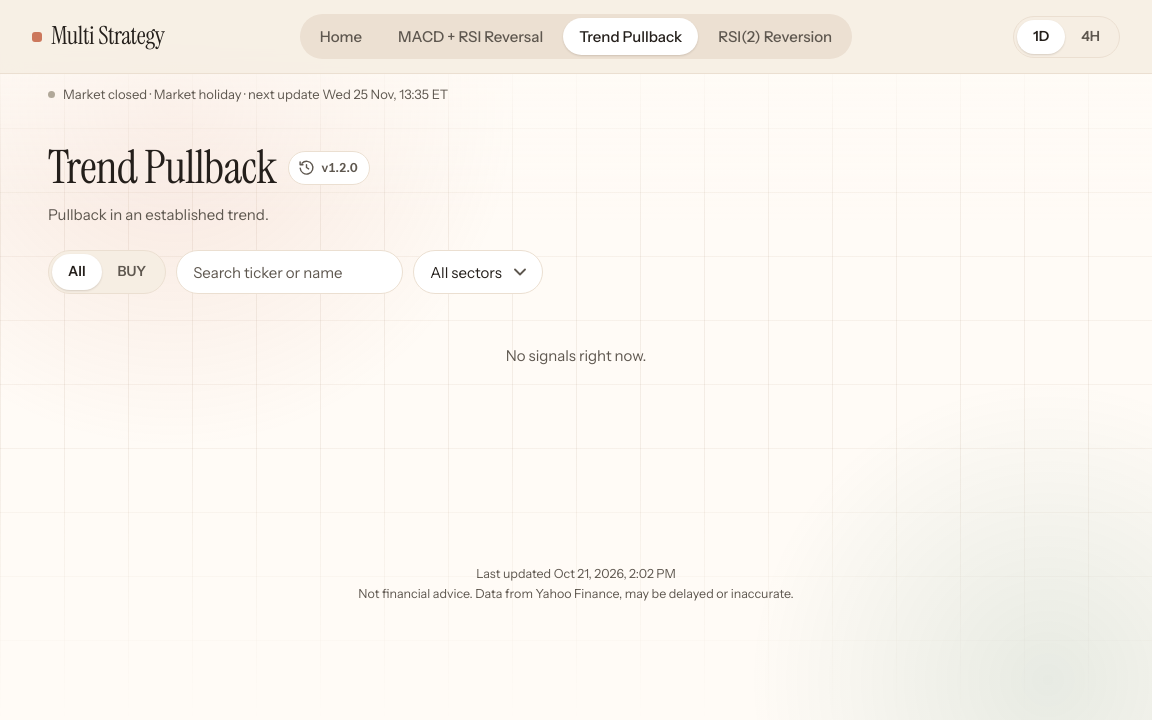
Test case: strategy change history › opens the history overlay on click, latest version first
Check: the heading "Trend Pullback" is shown, box [48,142,276,193]
Click the button named "change history": x=329, y=168 [288,151,370,185]
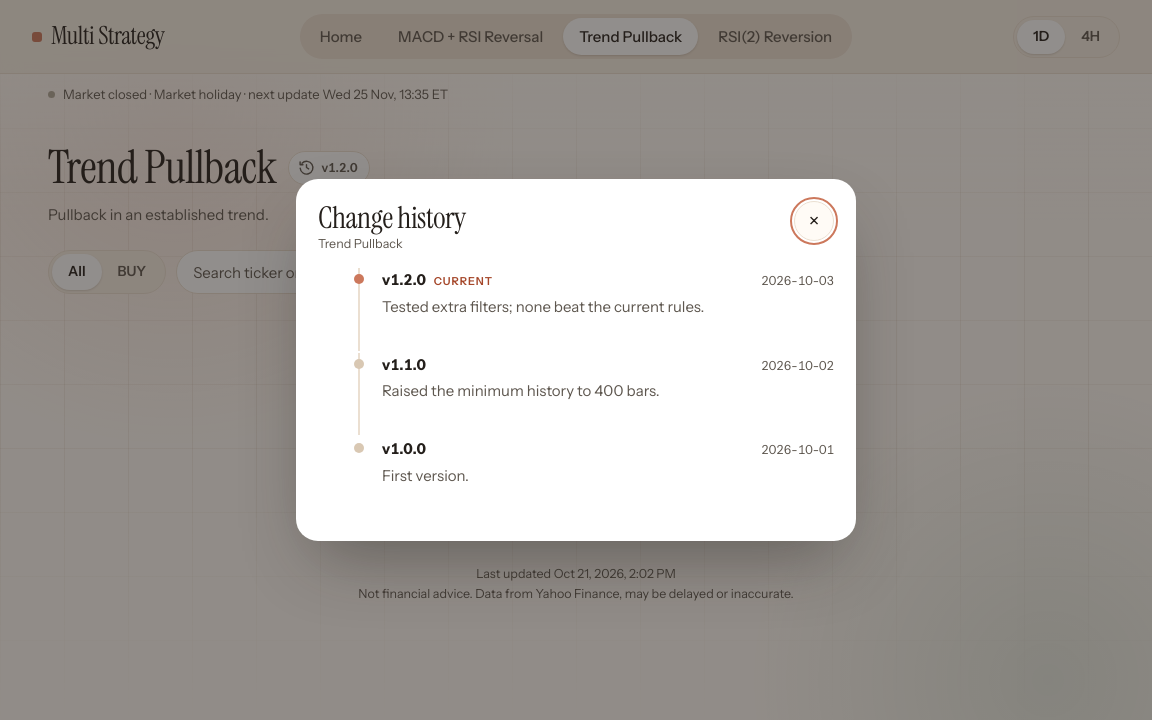
Check: the text "Tested extra filters; none beat the current rules." is shown, box [382,297,704,316]
